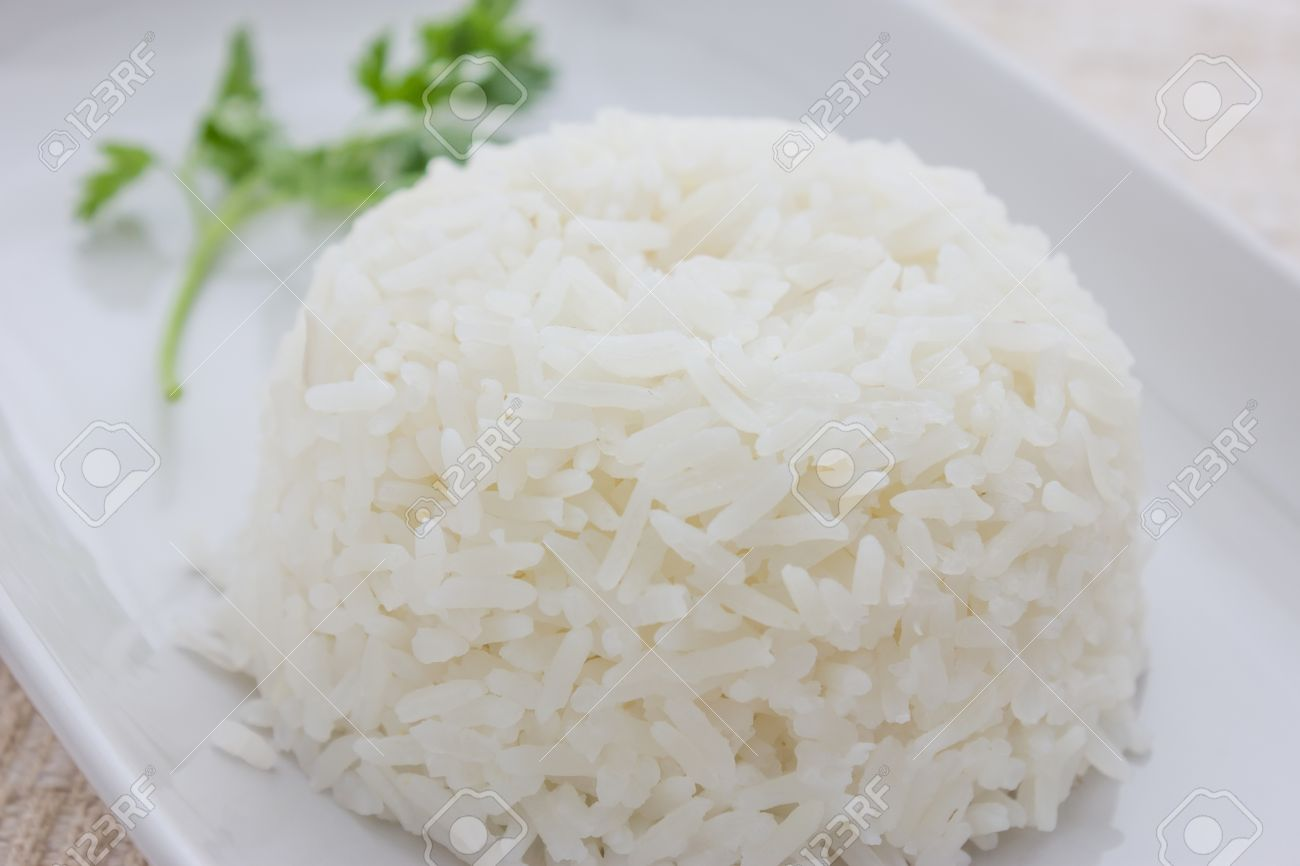rice: (237, 89, 1186, 866)
